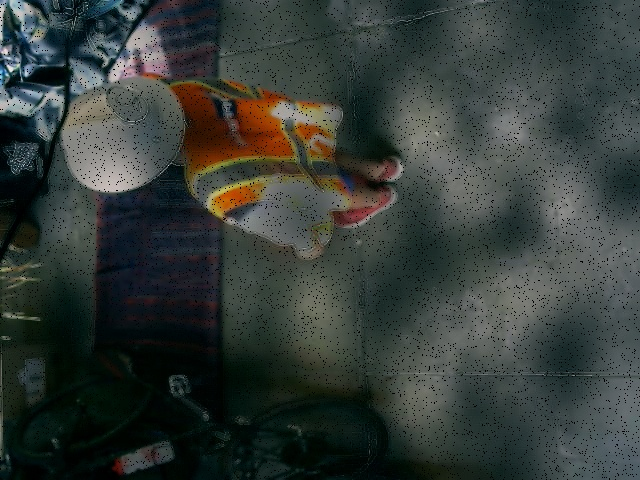two: (105, 87, 147, 122)
